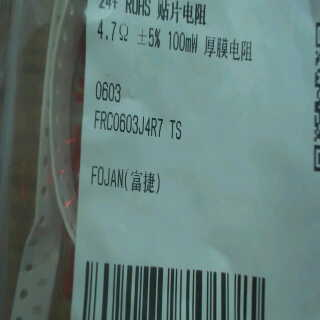4.7R: (84, 20, 131, 41)
